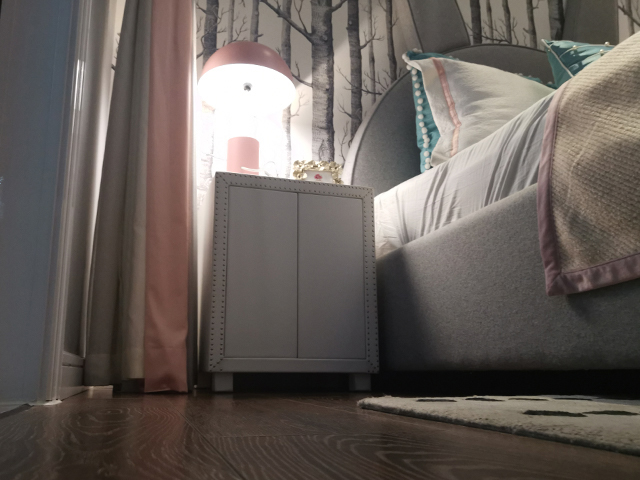bed: (341, 28, 640, 395)
cabinet: (197, 170, 380, 394)
carpet: (353, 393, 640, 457)
curtain: (81, 1, 201, 397)
